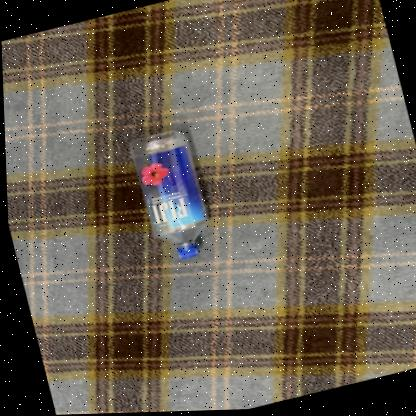Plastic: (126, 129, 203, 258)
